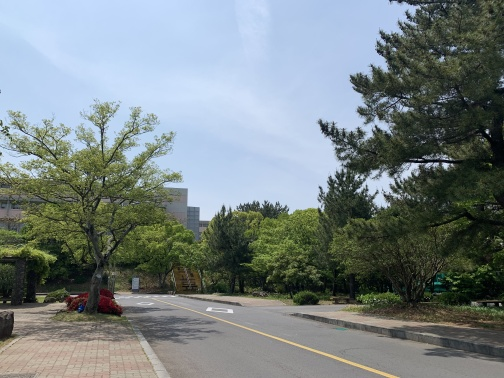Ara Hall: (397, 261, 479, 294)
College Of Education: (1, 174, 217, 261), (148, 183, 210, 248)
